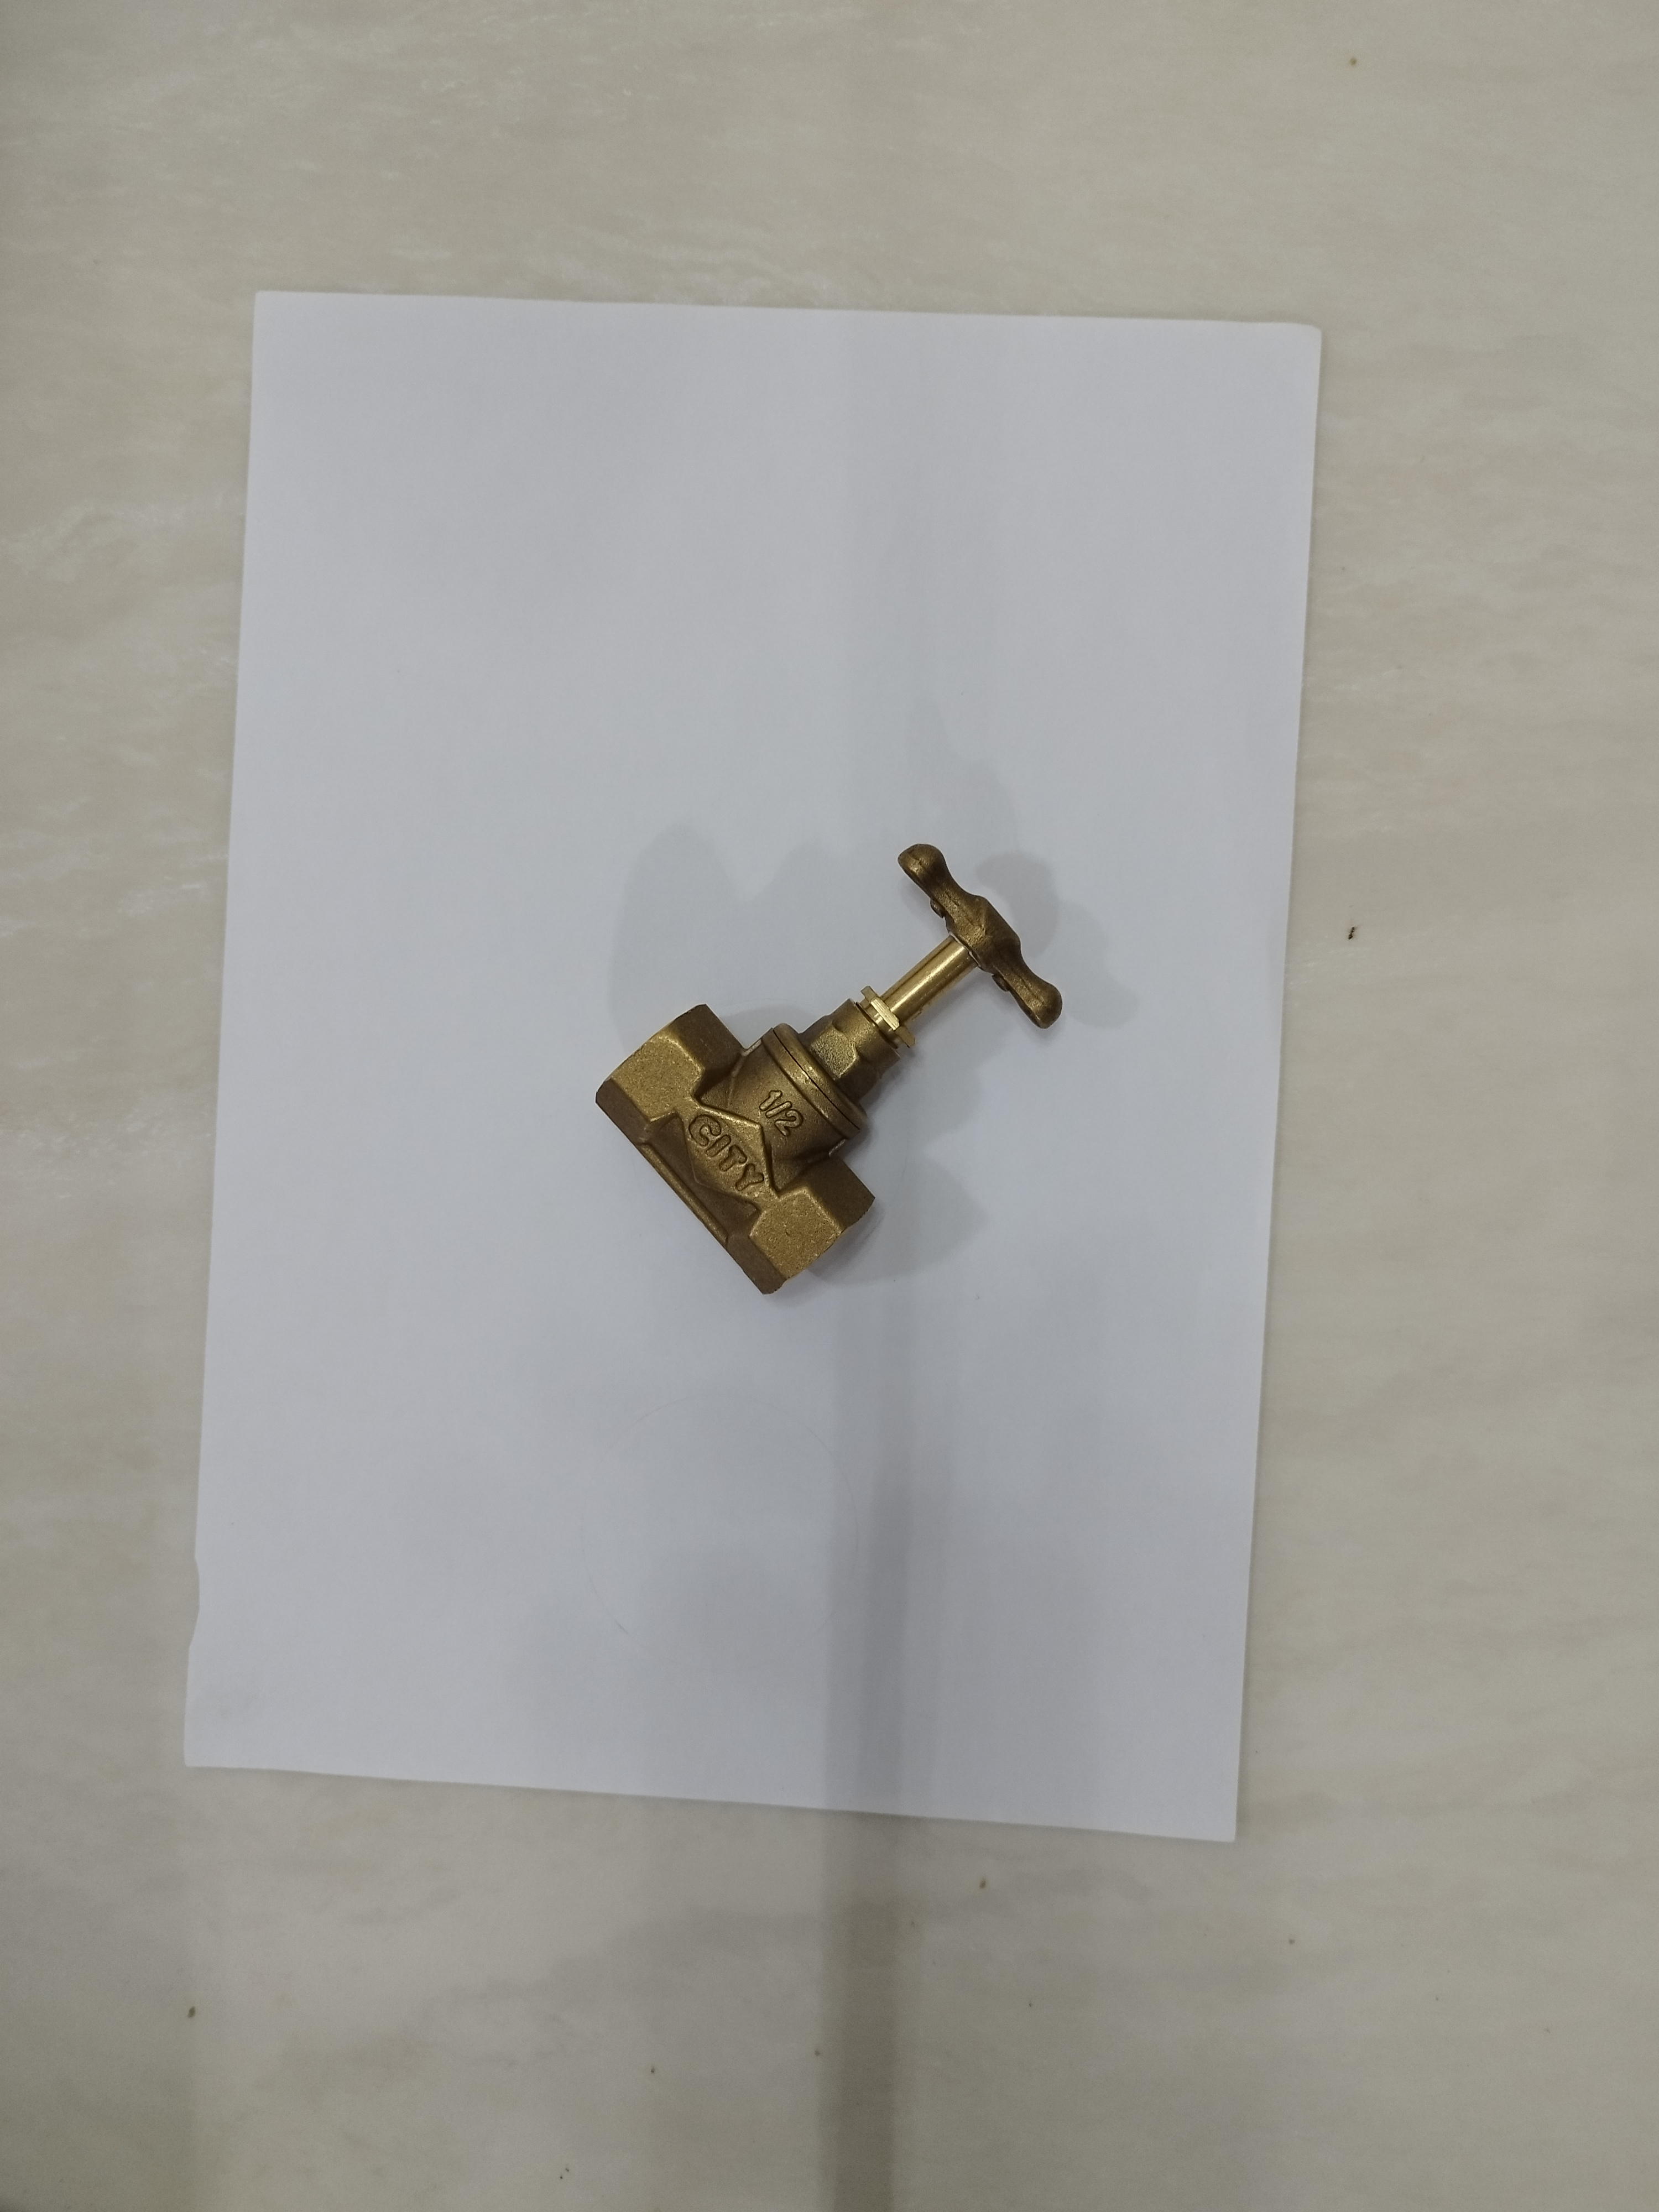brass_gate_valve: (586, 827, 1066, 1325)
